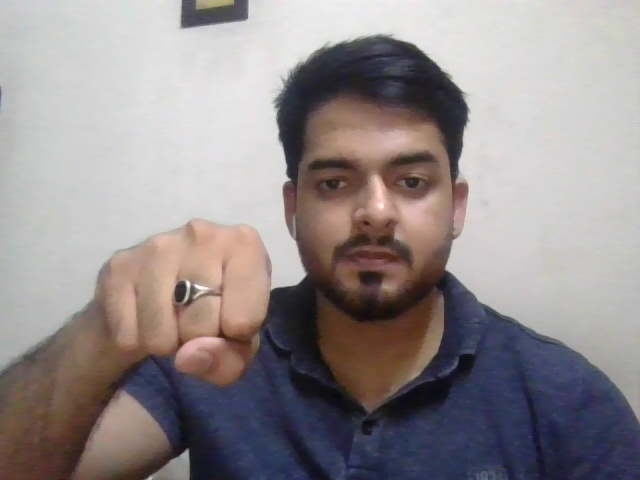yes: (96, 216, 274, 386)
